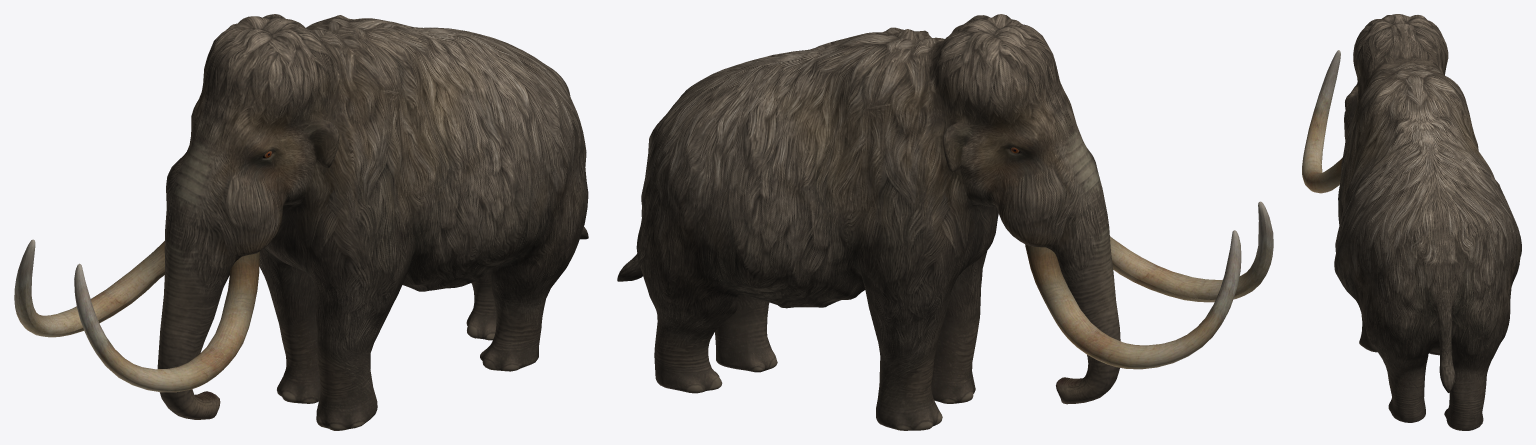
The model's file is mamute_parado.glb.
3 renders of one model, left to right at view 1: azimuth 30°, elevation 25°; view 2: azimuth 150°, elevation 25°; view 3: azimuth 270°, elevation 25°, orthographic. The views are drawn at different scales.
Visible parts, largest first — view 1: Object_4_fixo; view 2: Object_4_fixo; view 3: Object_4_fixo.
Part boxes in pixels (left/top/right/bottom): Object_4_fixo: left=14, top=14, right=588, bottom=430; Object_4_fixo: left=617, top=14, right=1273, bottom=430; Object_4_fixo: left=1302, top=14, right=1521, bottom=430.
Bounding box in the file's own units: 2.06 × 1.32 × 0.8622.
Materials: 1 (1 with a texture image).
